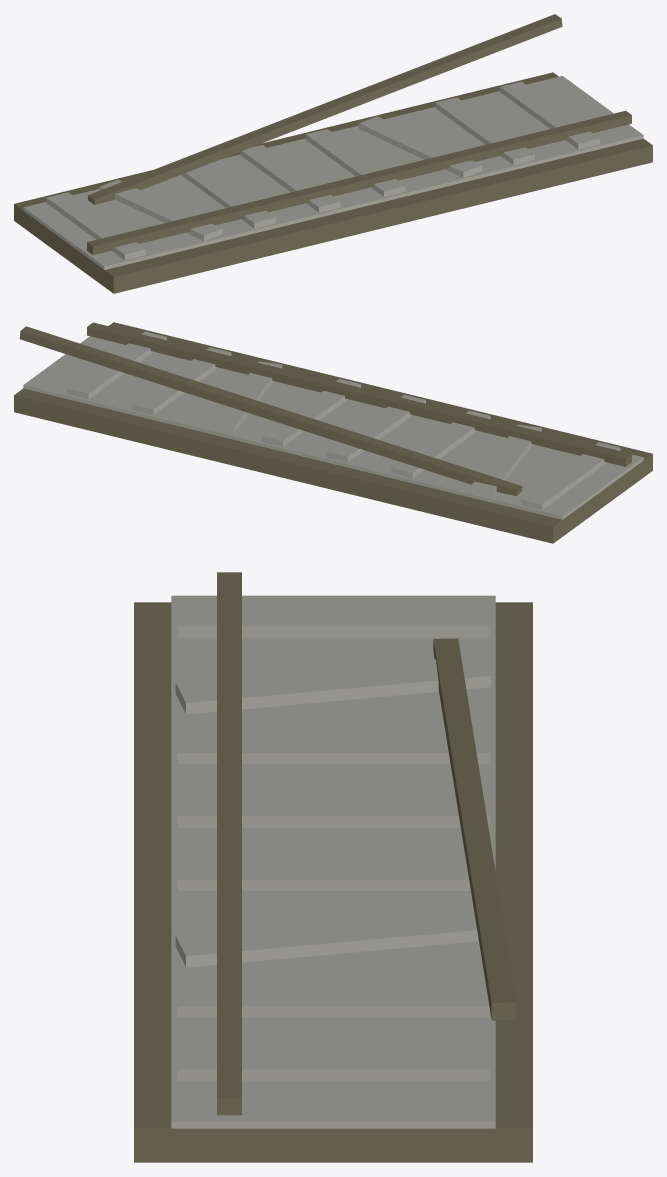
Rendered from SM_KitVia_v1_LOD1.fbx.
3 views of the same model, one above another, from view 1: azimuth 30°, elevation 25°; view 2: azimuth 150°, elevation 25°; view 3: azimuth 270°, elevation 25° (orthographic). The views are drawn at different scales.
Visible parts, largest first — view 1: SM_kit_via_v1_LOD1; view 2: SM_kit_via_v1_LOD1; view 3: SM_kit_via_v1_LOD1.
Boxes of the visible parts, x1,y1,x2,y2 form: SM_kit_via_v1_LOD1: (14,14,652,293); SM_kit_via_v1_LOD1: (14,322,652,543); SM_kit_via_v1_LOD1: (134,572,532,1162).
Bounding box in the file's own units: 9.98 × 1.39 × 3.2.
